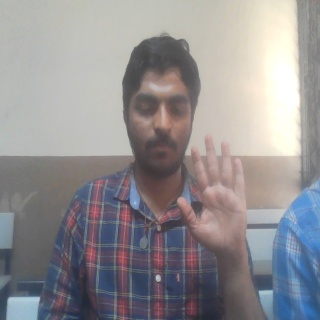Face: (119, 31, 194, 176)
Hello: (176, 133, 250, 262)
